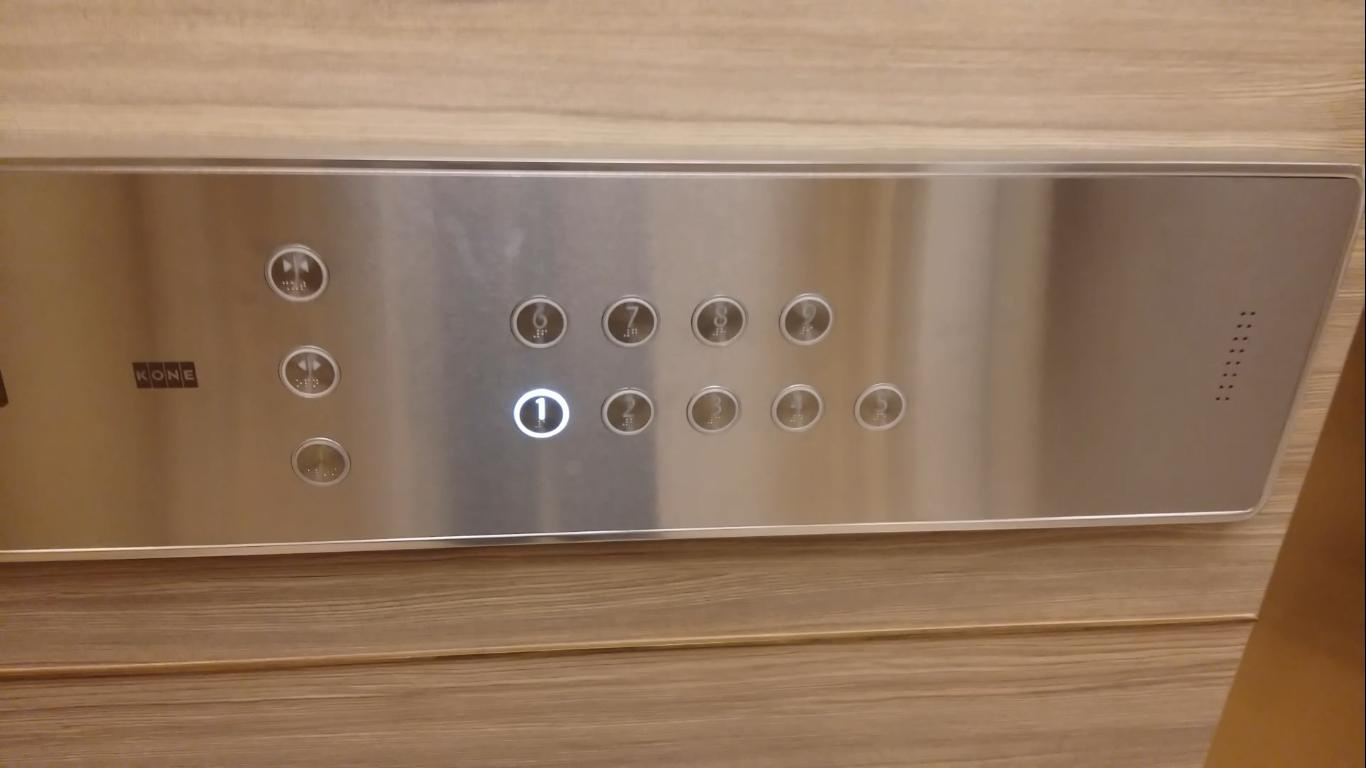1: (511, 387, 571, 442)
2: (600, 386, 656, 438)
3: (685, 385, 741, 434)
4: (768, 383, 825, 434)
5: (851, 381, 906, 433)
6: (510, 295, 568, 351)
7: (600, 293, 659, 349)
8: (690, 294, 747, 348)
9: (779, 293, 833, 347)
close: (263, 244, 329, 304)
empty: (289, 436, 350, 488)
open: (276, 344, 343, 400)
